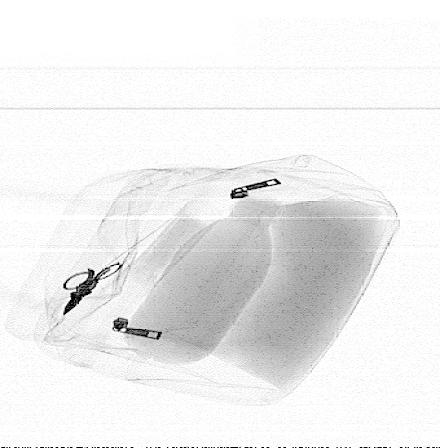Scissors: (62, 261, 124, 317)
